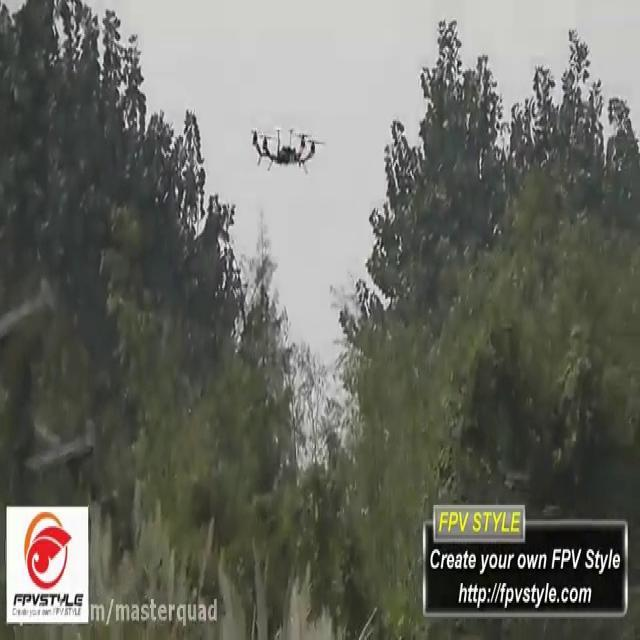drones: (246, 119, 330, 181)
